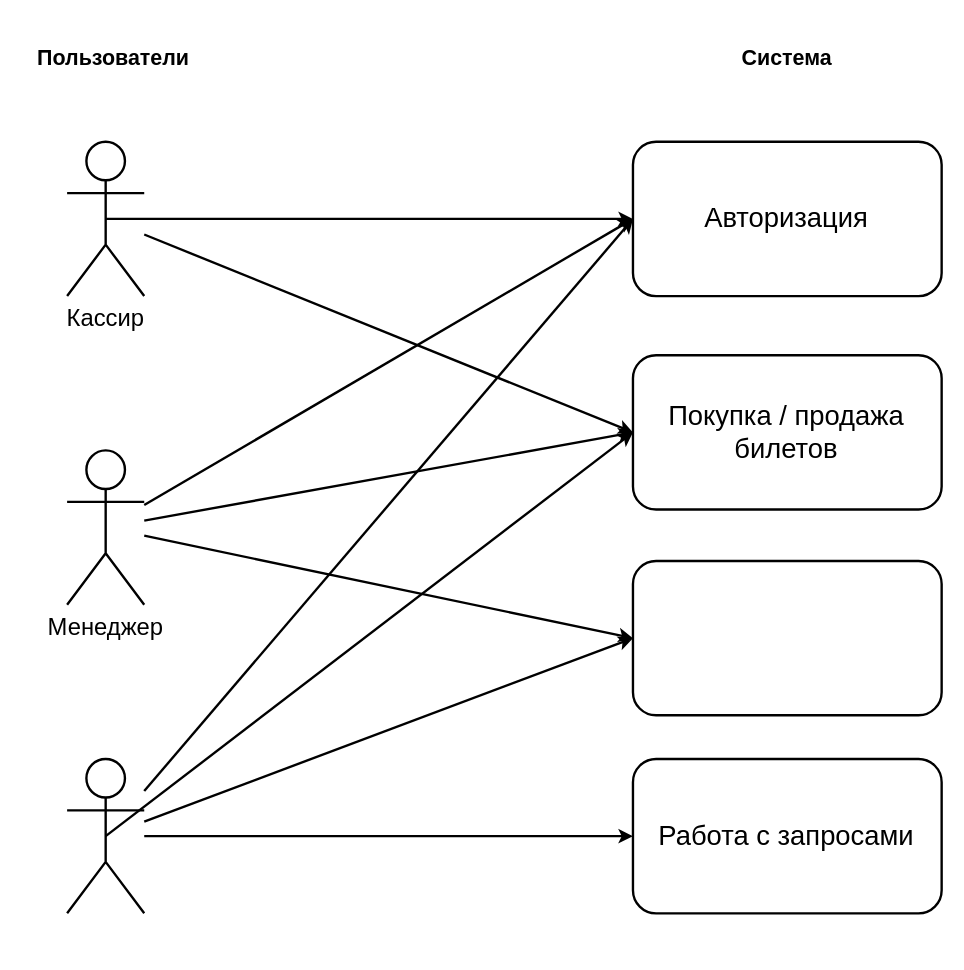
Some shapes in this 964 by 970 pixel diagram are drawn without their labels. Here are the shapes that lost their labels. From the top down, the box of each, then its label:
(631, 559, 942, 716): Работа с отчетами
(65, 757, 145, 914): Администратор
